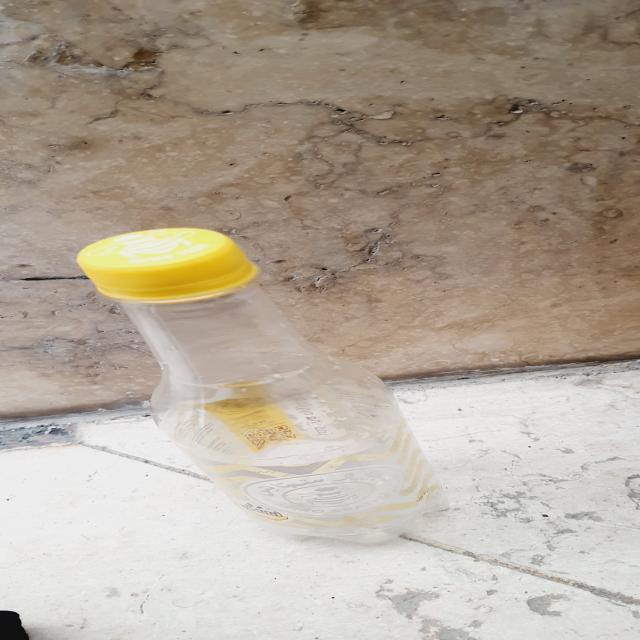plastic: (76, 226, 445, 544)
